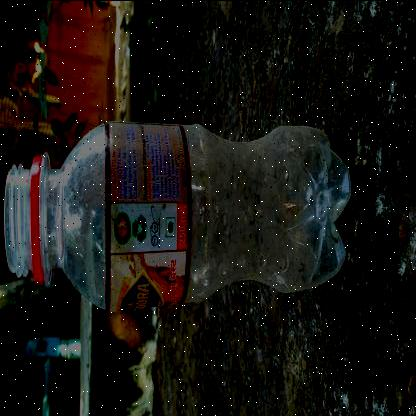Plastic Bottle: (4, 121, 352, 310)
